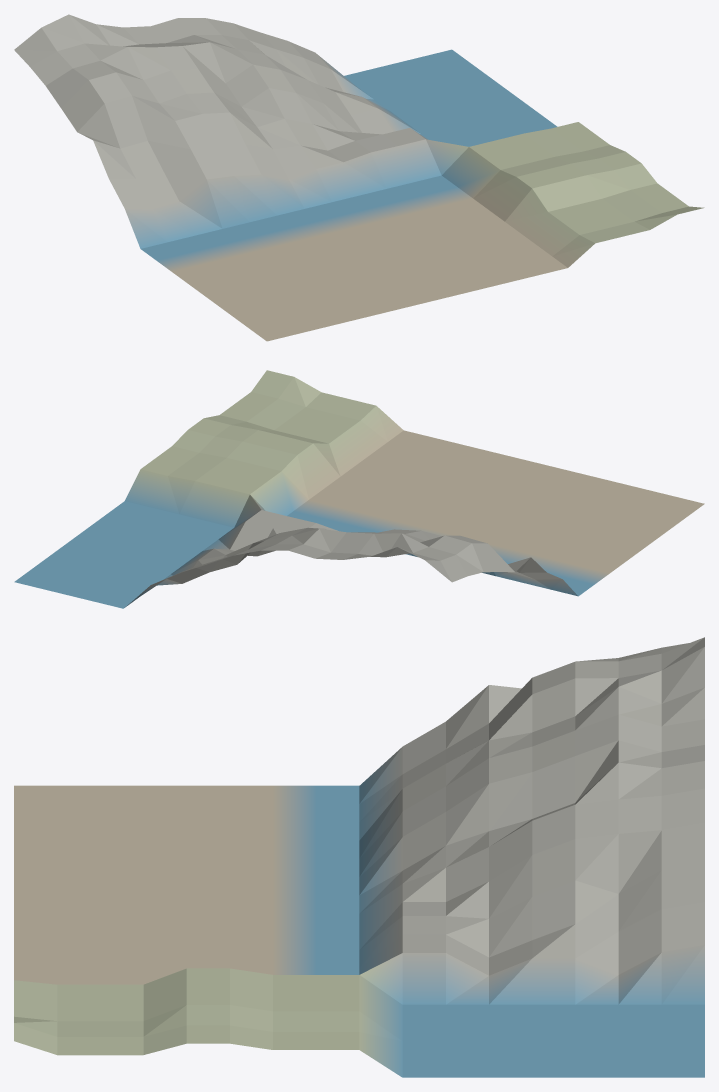
3 renders of one model, top to bottom at view 1: azimuth 30°, elevation 25°; view 2: azimuth 150°, elevation 25°; view 3: azimuth 270°, elevation 25°, orthographic. The views are drawn at different scales.
Size of the model in its own units: 32 by 8.98 by 32.
